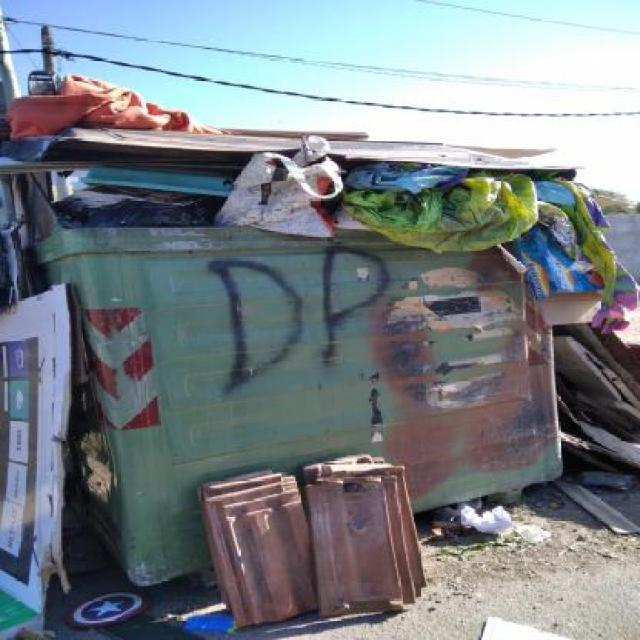garbage: (0, 269, 413, 639), (0, 82, 639, 311)
